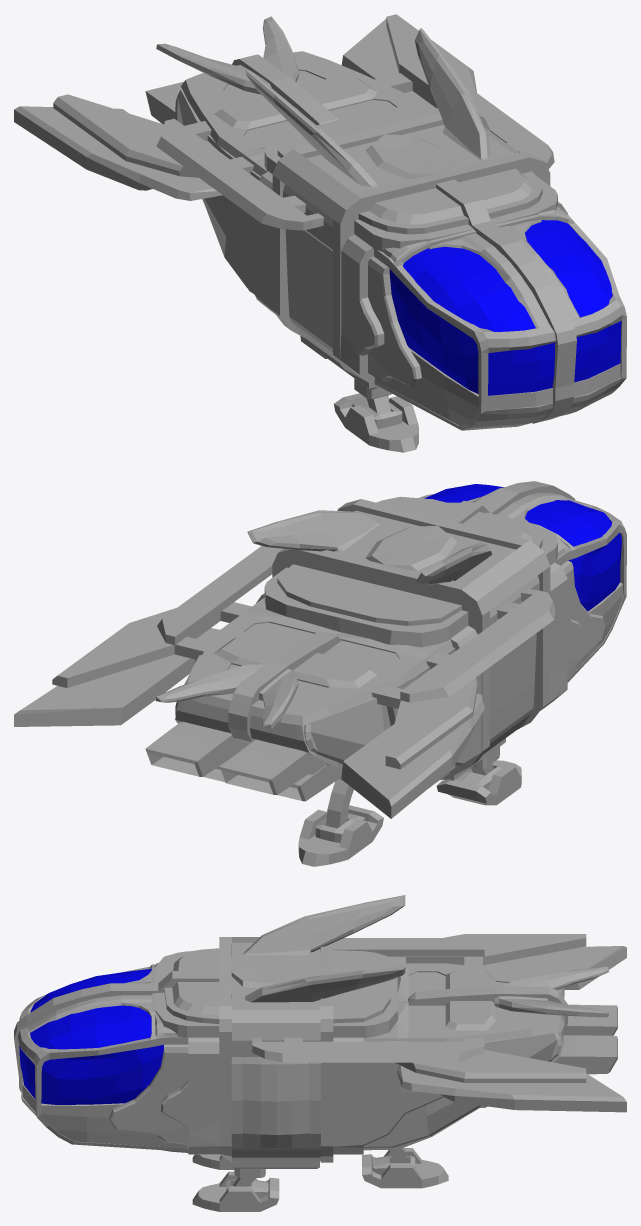
The model's file is ShipTRN.fbx.
3 views of the same model, one above another, from view 1: azimuth 30°, elevation 25°; view 2: azimuth 150°, elevation 25°; view 3: azimuth 270°, elevation 25° (orthographic). The views are drawn at different scales.
Parts seen in each view (by area): view 1: MOTHERSHIP_HULL; view 2: MOTHERSHIP_HULL; view 3: MOTHERSHIP_HULL.
Boxes of the visible parts, bbox=[...] form: MOTHERSHIP_HULL: bbox=[14, 14, 626, 452]; MOTHERSHIP_HULL: bbox=[14, 481, 626, 866]; MOTHERSHIP_HULL: bbox=[14, 895, 626, 1211].
Bounding box in the file's own units: 17.55 × 13.23 × 29.43.
